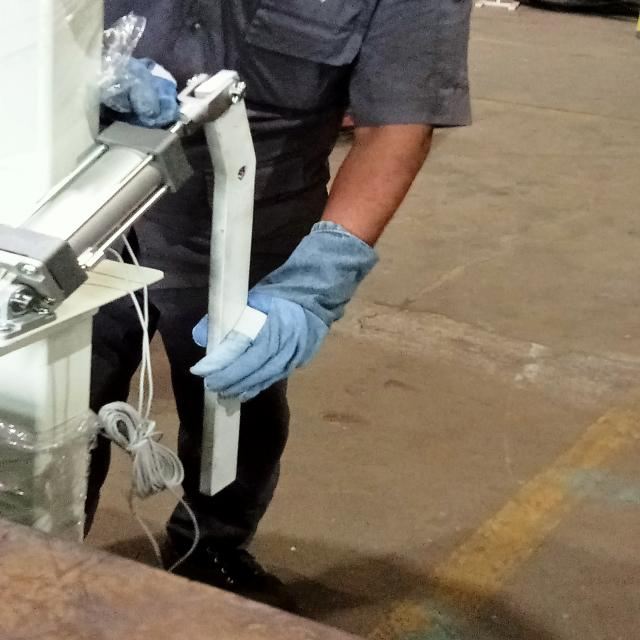Gloves-Detection: (185, 220, 368, 404), (113, 54, 184, 121)
